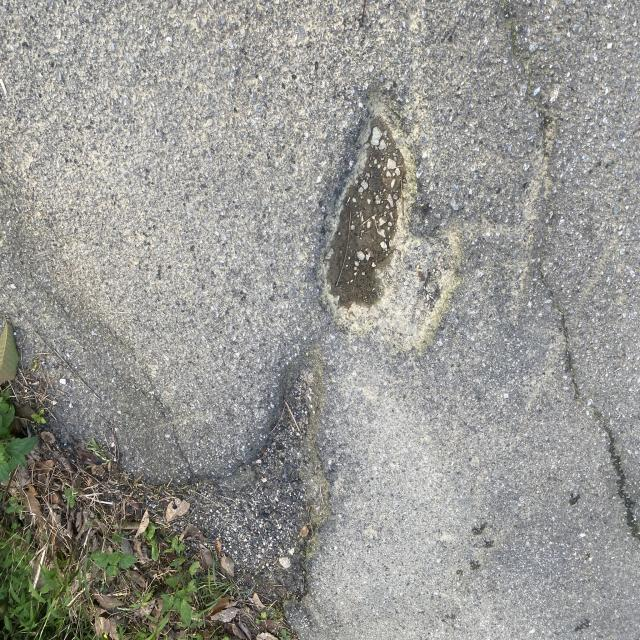Pothole: (290, 70, 498, 398)
